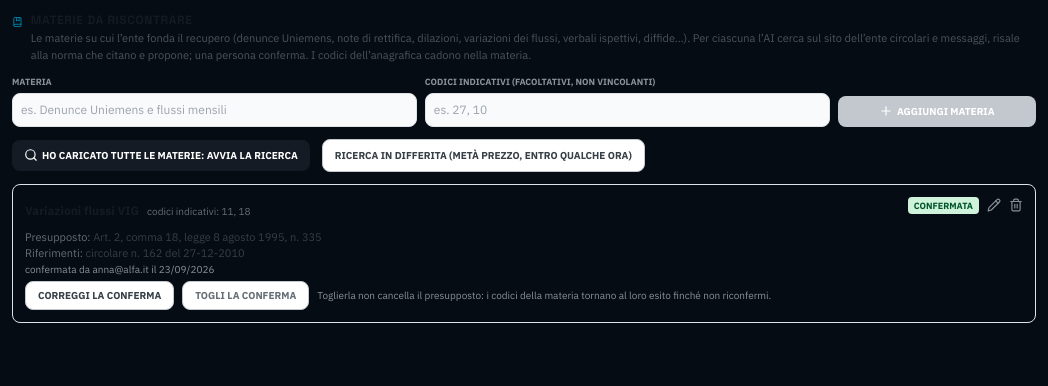
Test: materie: la conferma si toglie e si corregge › togliere la conferma la chiede, la esegue e ricarica i codici che vi cadono
Click the button "Togli la conferma". click: (246, 295)
box: [182,280,309,310]
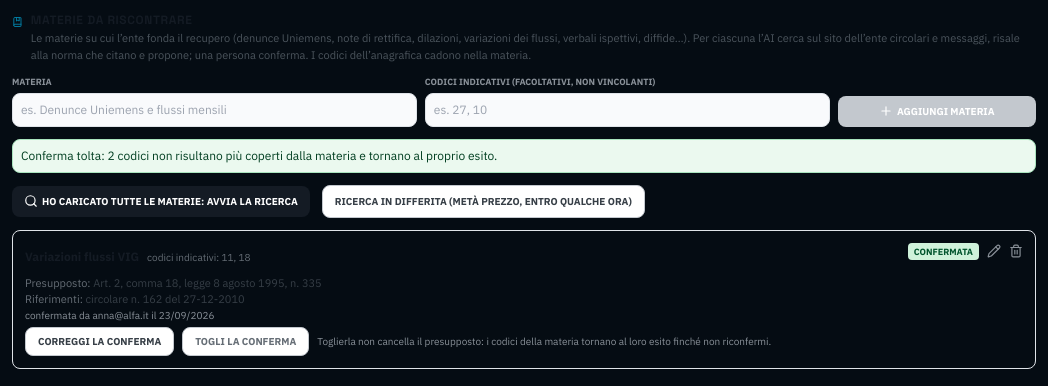
Expected: the text "Conferma tolta: 2 codici non risultano più coperti" is shown, [21,148,497,162]
